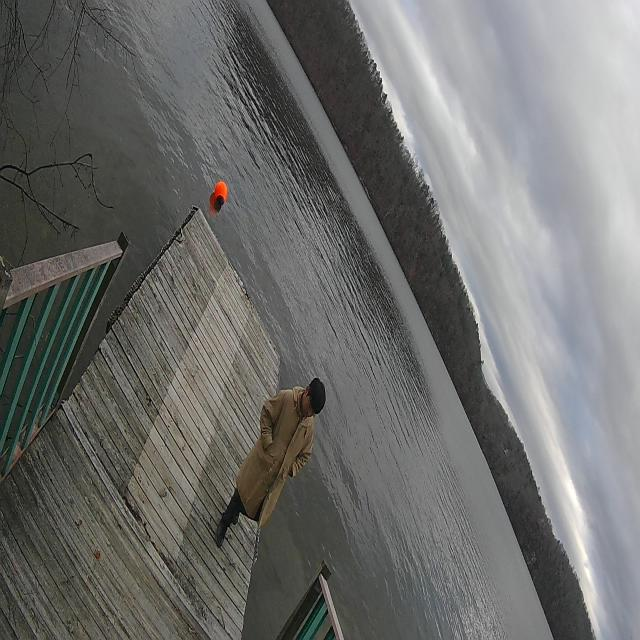Buoy: (214, 180, 228, 209)
